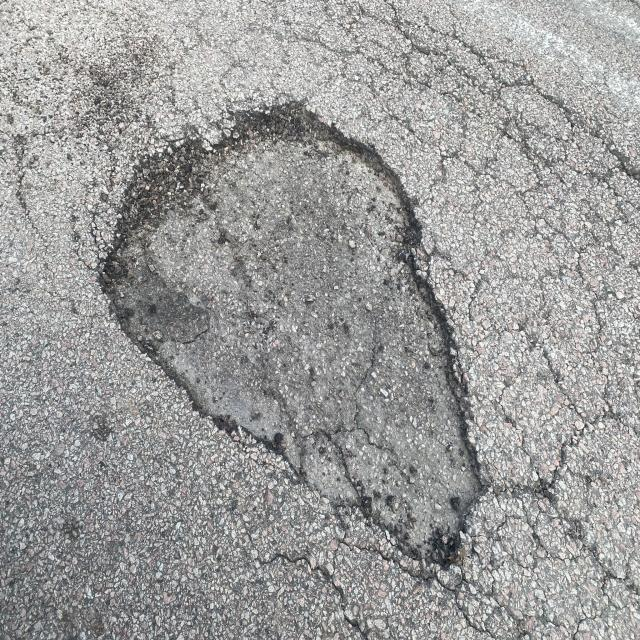pothole: (84, 61, 567, 582)
